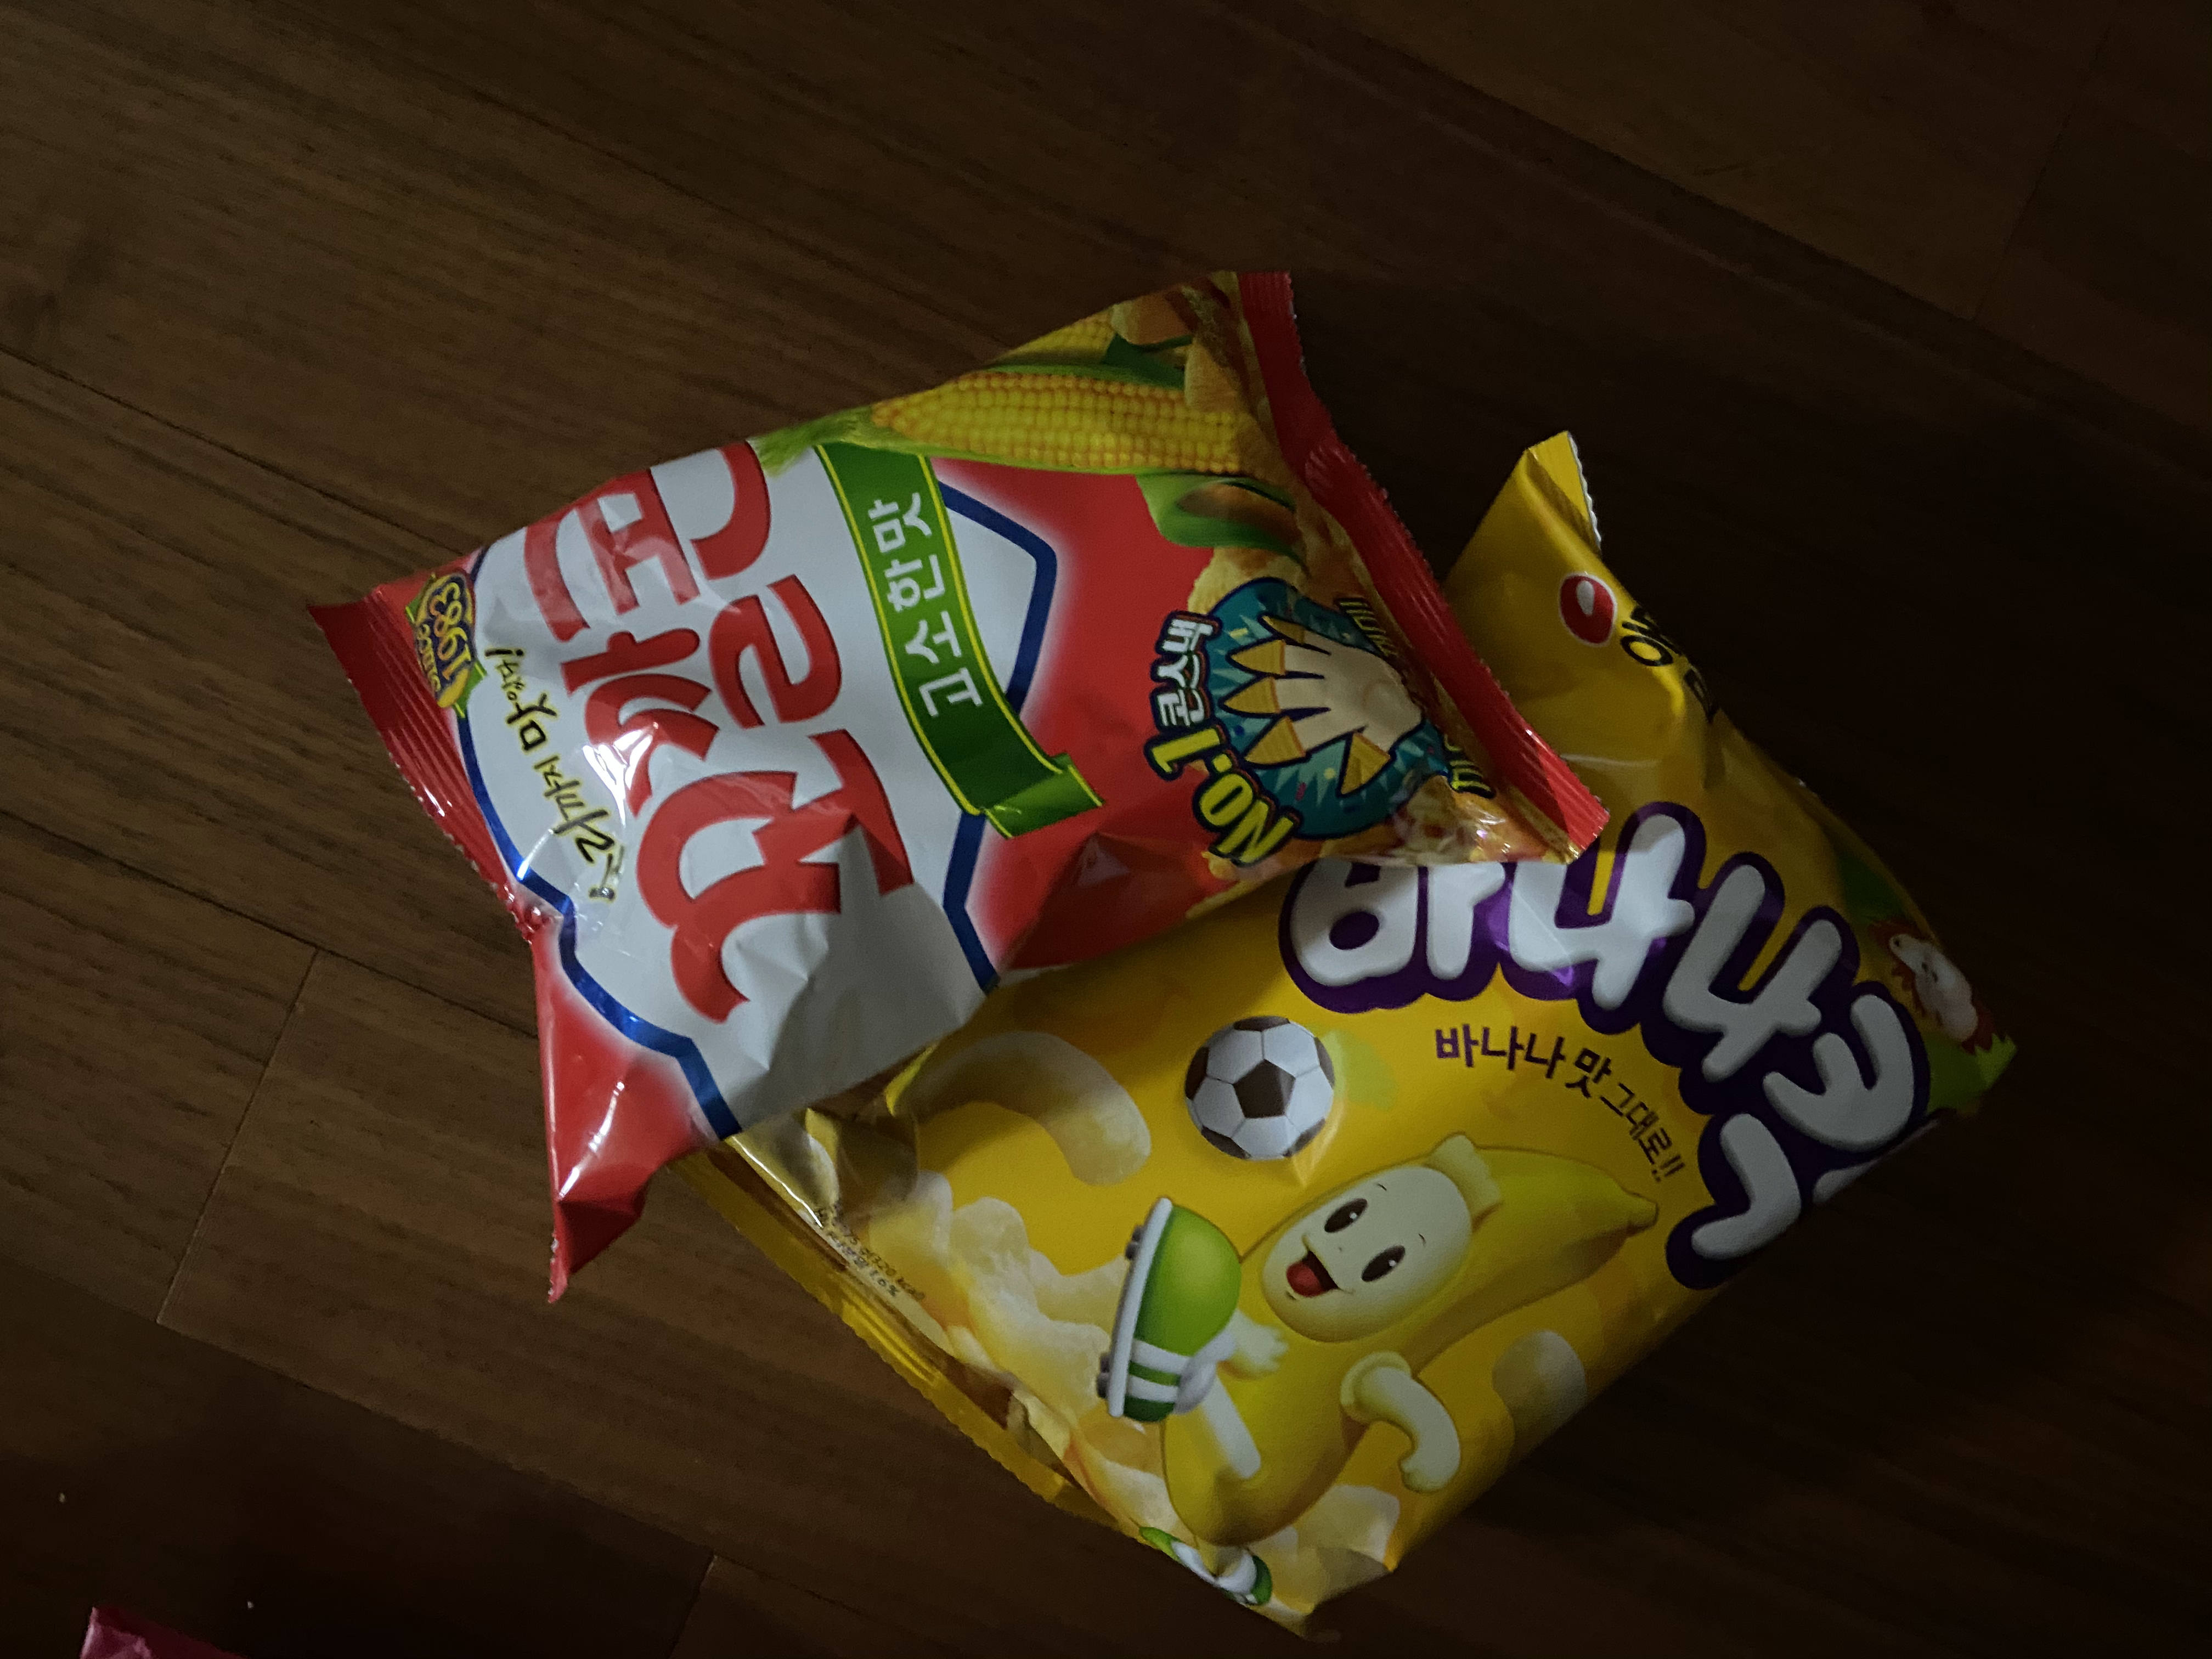banana: (672, 410, 2036, 1633)
ggoggalcon: (303, 247, 1597, 1312)
